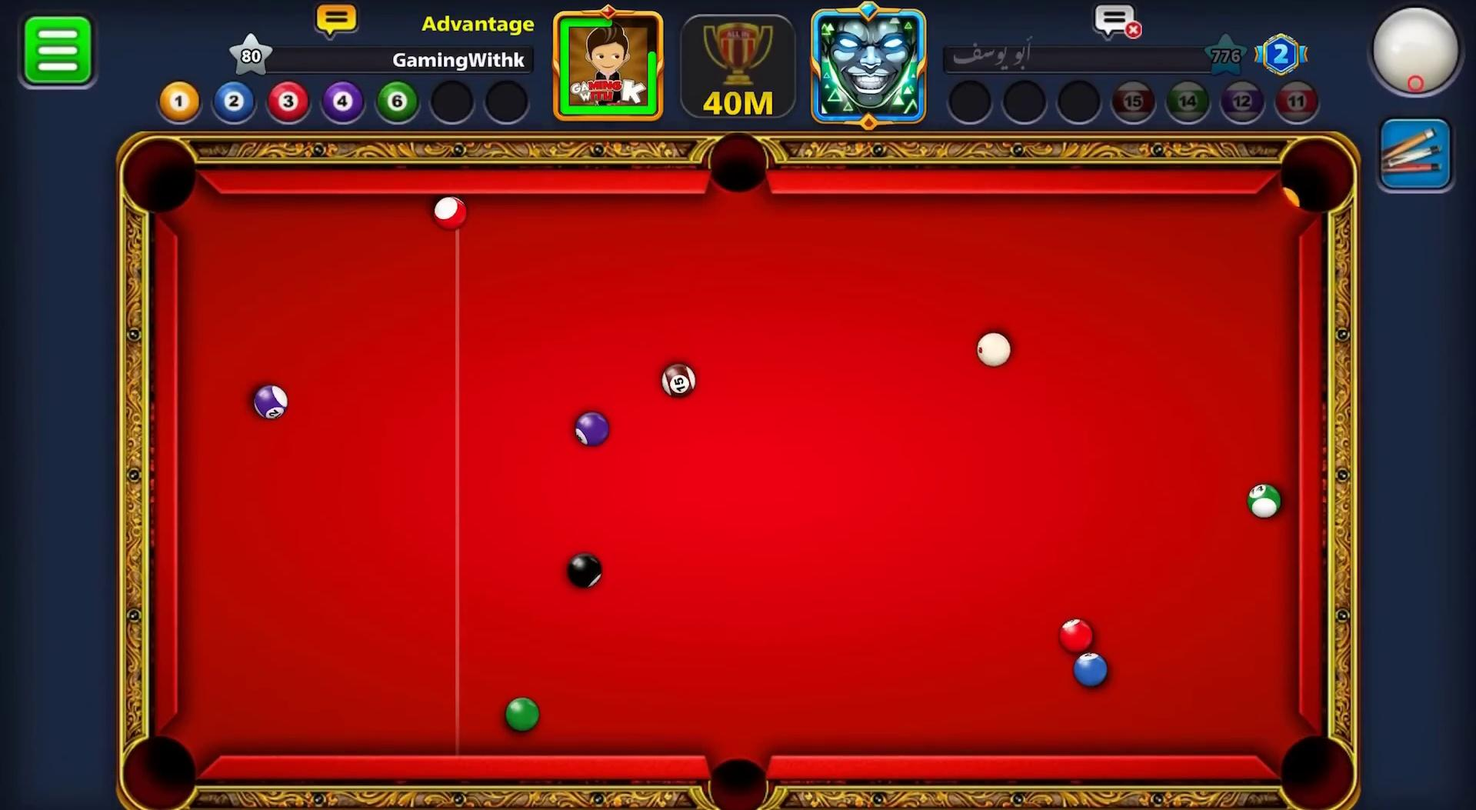Ball: (243, 372, 299, 428), (422, 185, 474, 241), (563, 402, 617, 454), (556, 548, 610, 594), (651, 357, 702, 404), (501, 692, 545, 738), (1244, 475, 1286, 523), (1051, 614, 1102, 651), (1071, 648, 1111, 689)
Hole: (100, 121, 219, 237), (1254, 719, 1373, 809), (685, 125, 790, 212), (689, 739, 785, 809), (1275, 135, 1358, 215), (122, 733, 199, 808)
Play_Area: (177, 192, 1295, 757)
Spin: (1364, 0, 1475, 109)
White: (972, 326, 1016, 372)
